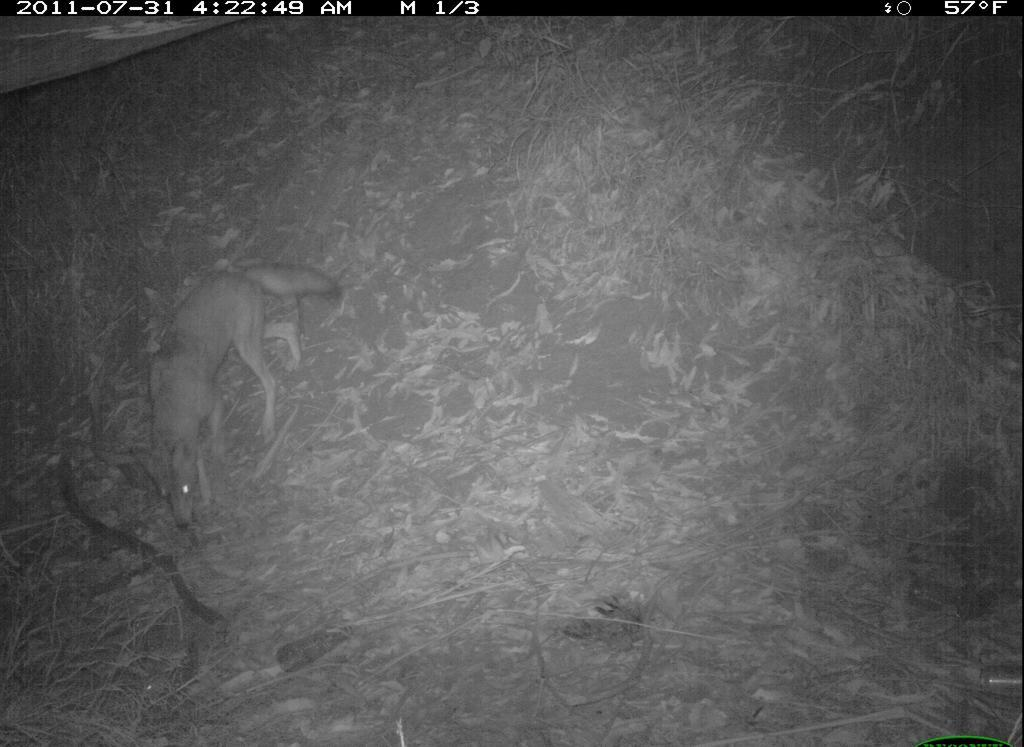coyote: (132, 254, 350, 542)
